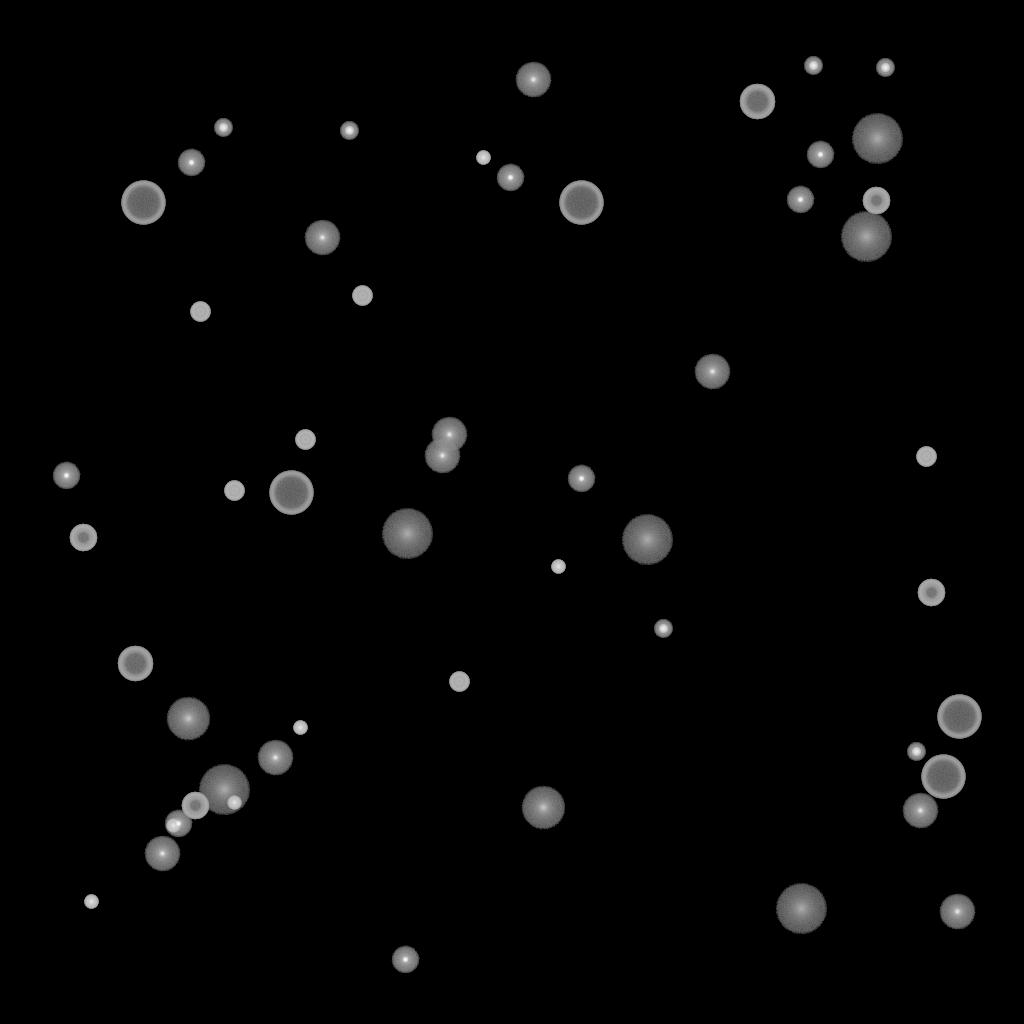depth:-10: (177, 149, 205, 177), (496, 164, 524, 192), (391, 946, 419, 974), (52, 462, 80, 490), (164, 810, 192, 838), (806, 141, 834, 169), (567, 465, 595, 493), (786, 186, 814, 214)
depth:-20: (876, 59, 894, 77), (340, 122, 358, 140), (654, 620, 672, 638), (907, 743, 925, 761), (214, 119, 232, 137), (804, 57, 822, 75)
depth:-30: (166, 819, 180, 833), (227, 796, 241, 810), (84, 895, 98, 909), (476, 151, 490, 165), (293, 721, 307, 735), (551, 560, 565, 574)
depth:-40: (916, 447, 936, 467), (224, 481, 244, 501), (449, 672, 469, 692), (295, 430, 315, 450), (352, 286, 372, 306), (190, 302, 210, 322)
depth:-50: (862, 187, 890, 215), (917, 579, 945, 607), (69, 524, 97, 552), (181, 792, 209, 820)
depth:-60: (117, 646, 153, 682), (739, 84, 775, 120)
depth:-70: (921, 755, 965, 799), (269, 471, 313, 515), (121, 181, 165, 225), (559, 181, 603, 225), (937, 695, 981, 739)
depth:0: (257, 740, 293, 776), (424, 438, 460, 474), (694, 354, 730, 390), (902, 793, 938, 829), (144, 836, 180, 872), (304, 220, 340, 256), (515, 62, 551, 98), (939, 894, 975, 930), (431, 417, 467, 453)
depth:10: (521, 786, 565, 830), (166, 697, 210, 741)
depth:20: (840, 212, 892, 262), (198, 765, 250, 815), (381, 509, 433, 559), (851, 114, 903, 164), (775, 884, 827, 934), (621, 515, 673, 565)
